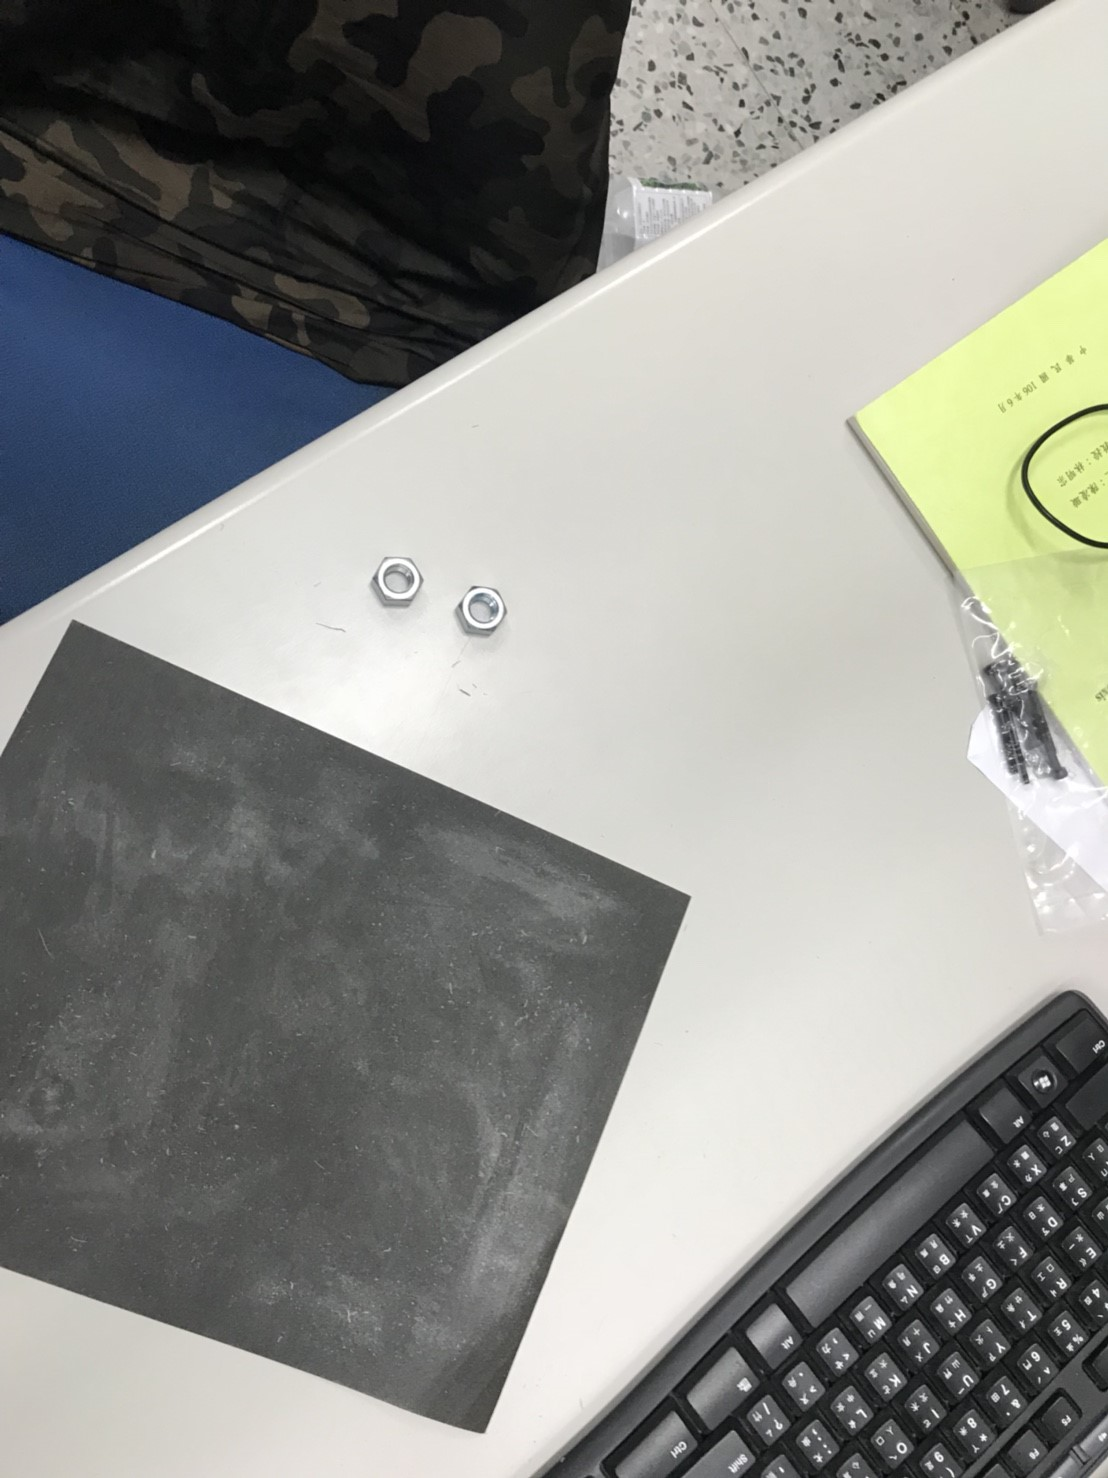nut: (459, 583, 511, 635), (370, 550, 421, 604)
